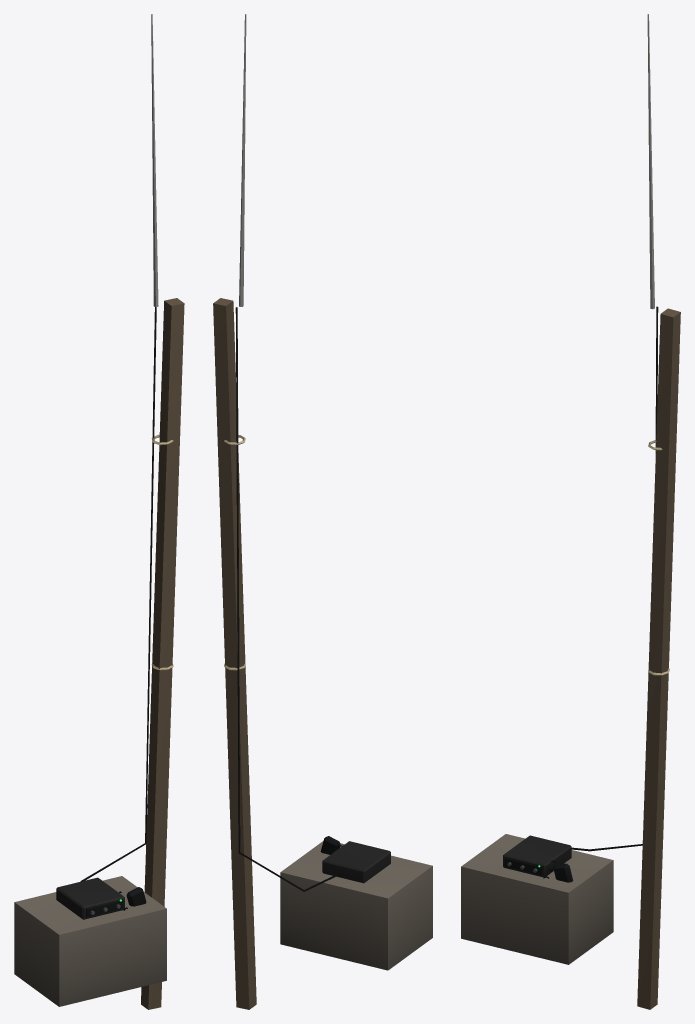
The model's file is pike_radio.glb.
The picture shows the model from 3 angles, left to right: view 1: azimuth 30°, elevation 25°; view 2: azimuth 150°, elevation 25°; view 3: azimuth 330°, elevation 25°; orthographic projection.
Parts seen in each view (by area): view 1: radio_aerial_LOD0, radio_crate_LOD0, radio_LOD0; view 2: radio_aerial_LOD0, radio_crate_LOD0, radio_LOD0; view 3: radio_aerial_LOD0, radio_crate_LOD0, radio_LOD0.
Boxes of the visible parts, <box> form: radio_aerial_LOD0: <box>80,14,184,1009</box>; radio_crate_LOD0: <box>14,876,166,1006</box>; radio_LOD0: <box>56,877,146,919</box>; radio_aerial_LOD0: <box>213,14,343,1009</box>; radio_crate_LOD0: <box>280,841,432,970</box>; radio_LOD0: <box>320,836,390,883</box>; radio_aerial_LOD0: <box>571,14,680,1009</box>; radio_crate_LOD0: <box>461,834,613,964</box>; radio_LOD0: <box>503,835,573,882</box>.
Size of what is drawn, in the model's own units: 0.7841 by 4.4 by 0.4337.
